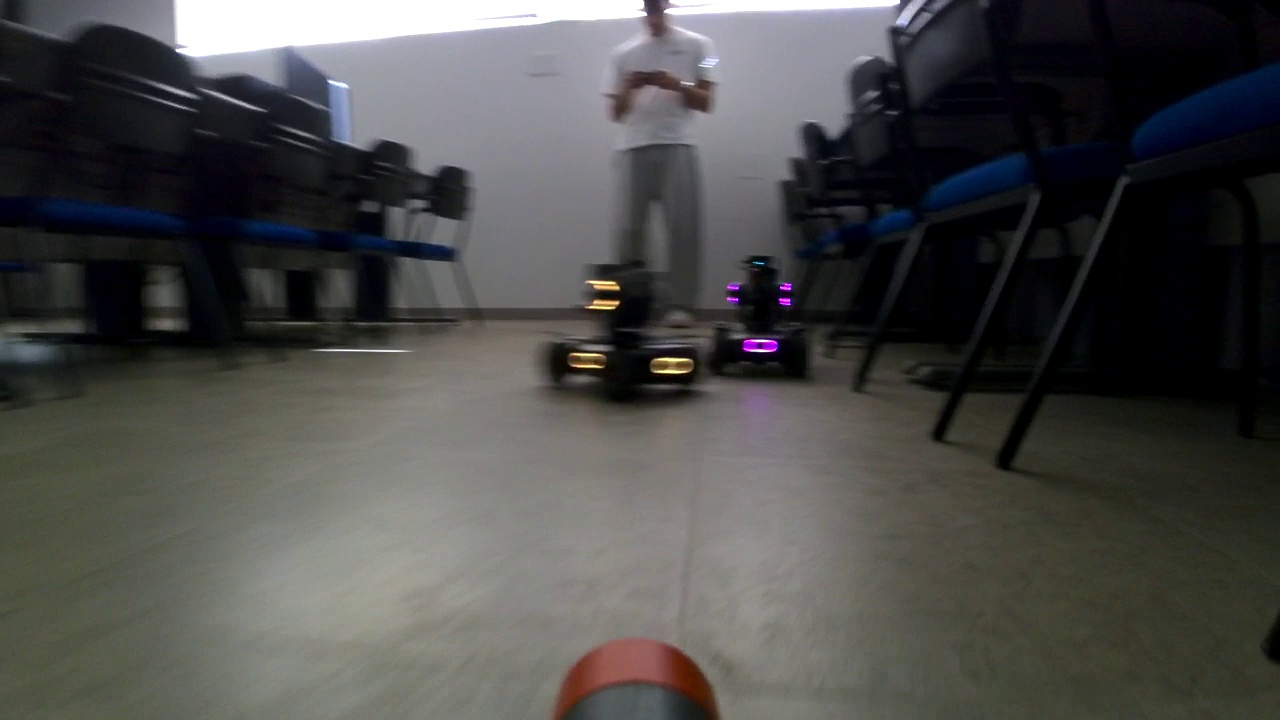robot: (543, 266, 701, 391), (709, 256, 809, 375)
